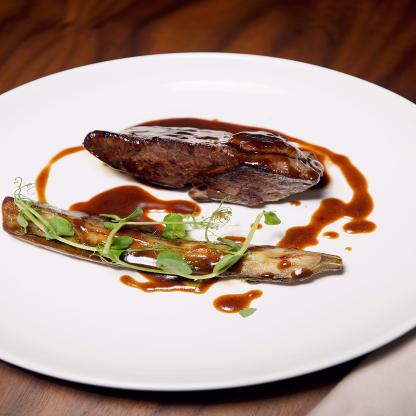Carne: (77, 121, 347, 203)
